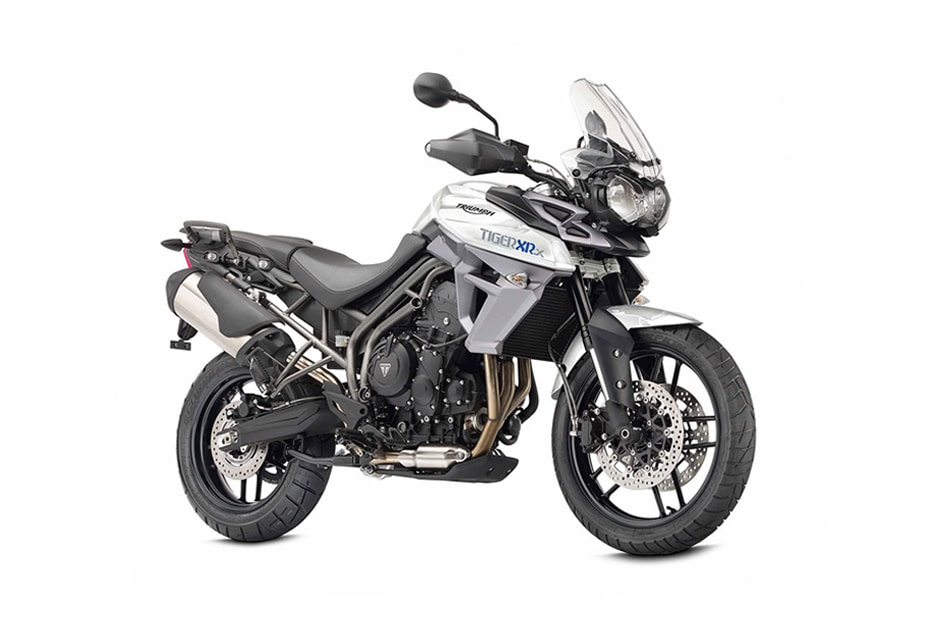motorcycle: (158, 124, 759, 560)
